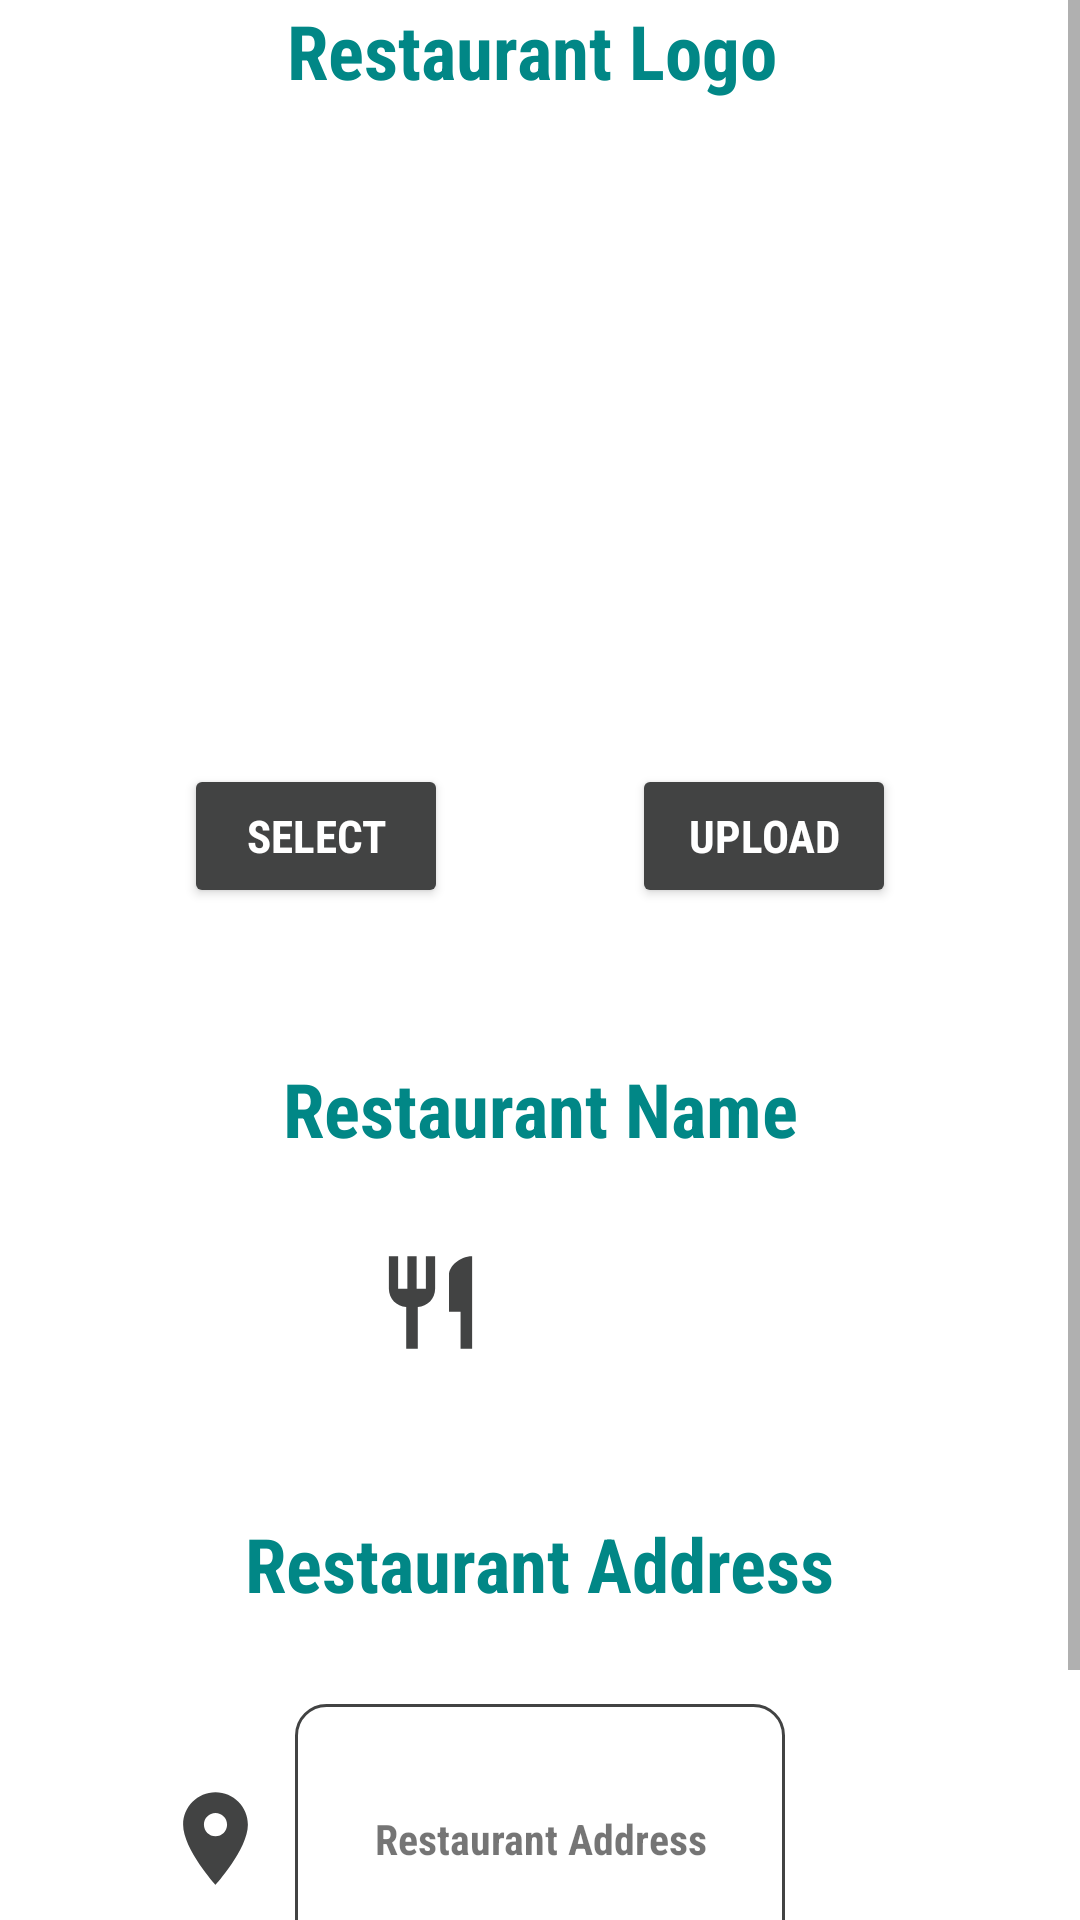

Screen size 1080 × 1920. Icon name, then its center in pixels as point (x, y):
location: point (215, 1838)
